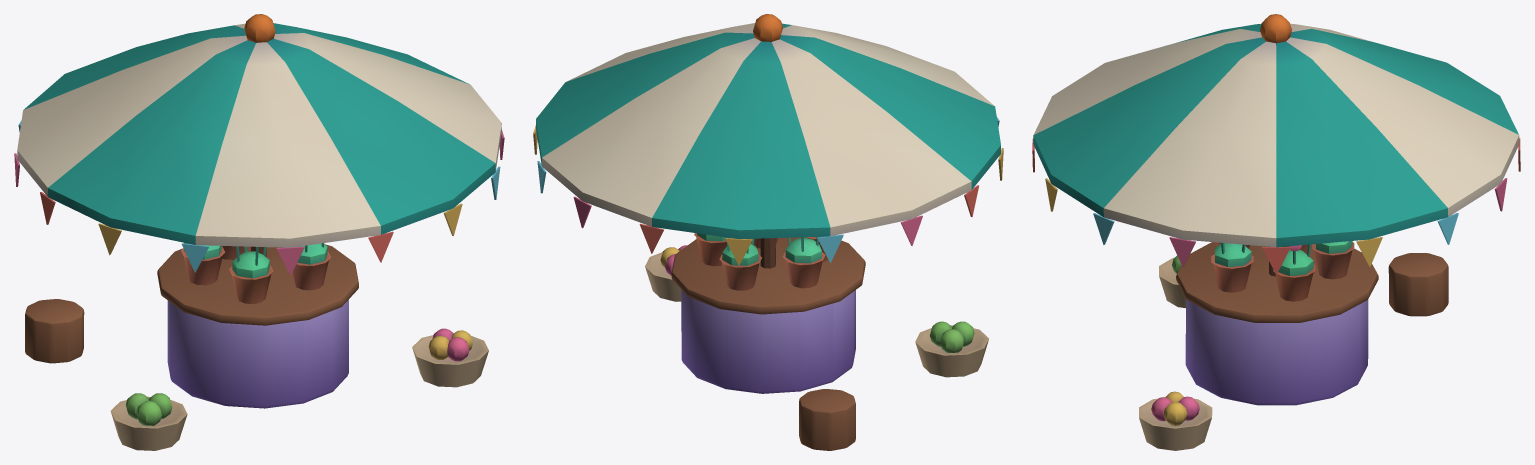
File: common_town_market_stall_b.glb
The picture shows the model from 3 angles, left to right: view 1: azimuth 30°, elevation 25°; view 2: azimuth 150°, elevation 25°; view 3: azimuth 270°, elevation 25°; orthographic projection. The views are drawn at different scales.
Parts seen in each view (by area): view 1: common_town_market_stall_b; view 2: common_town_market_stall_b; view 3: common_town_market_stall_b.
Boxes of the visible parts, x1=… form: common_town_market_stall_b: x1=14, y1=14, x2=504, y2=450; common_town_market_stall_b: x1=533, y1=14, x2=1003, y2=450; common_town_market_stall_b: x1=1032, y1=14, x2=1520, y2=450.
Bounding box in the file's own units: 4.81 × 3.86 × 4.81.
